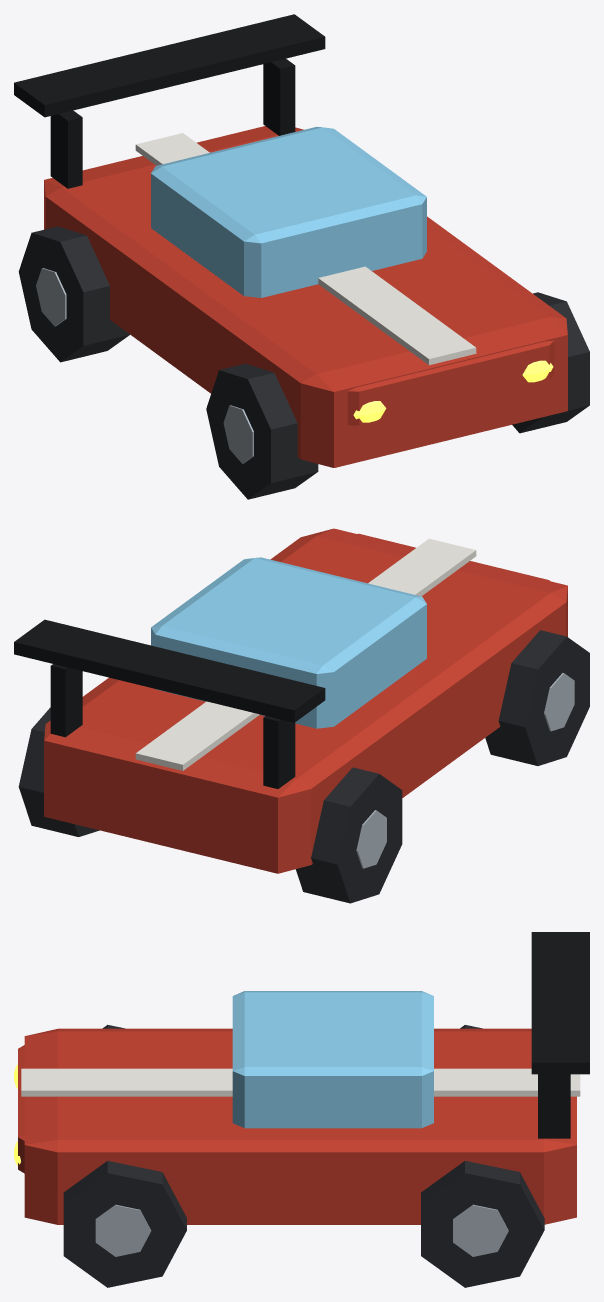
The model's file is race-car-lod1.glb.
The picture shows the model from 3 angles, top to bottom: view 1: azimuth 30°, elevation 25°; view 2: azimuth 150°, elevation 25°; view 3: azimuth 270°, elevation 25°; orthographic projection. The views are drawn at different scales.
Parts seen in each view (by area): view 1: race-car; view 2: race-car; view 3: race-car.
Part boxes in pixels (<box>): race-car: <box>14,14,589,499</box>; race-car: <box>14,528,589,903</box>; race-car: <box>14,932,589,1287</box>.
Bounding box in the file's own units: 1.09 × 0.735 × 1.77.
